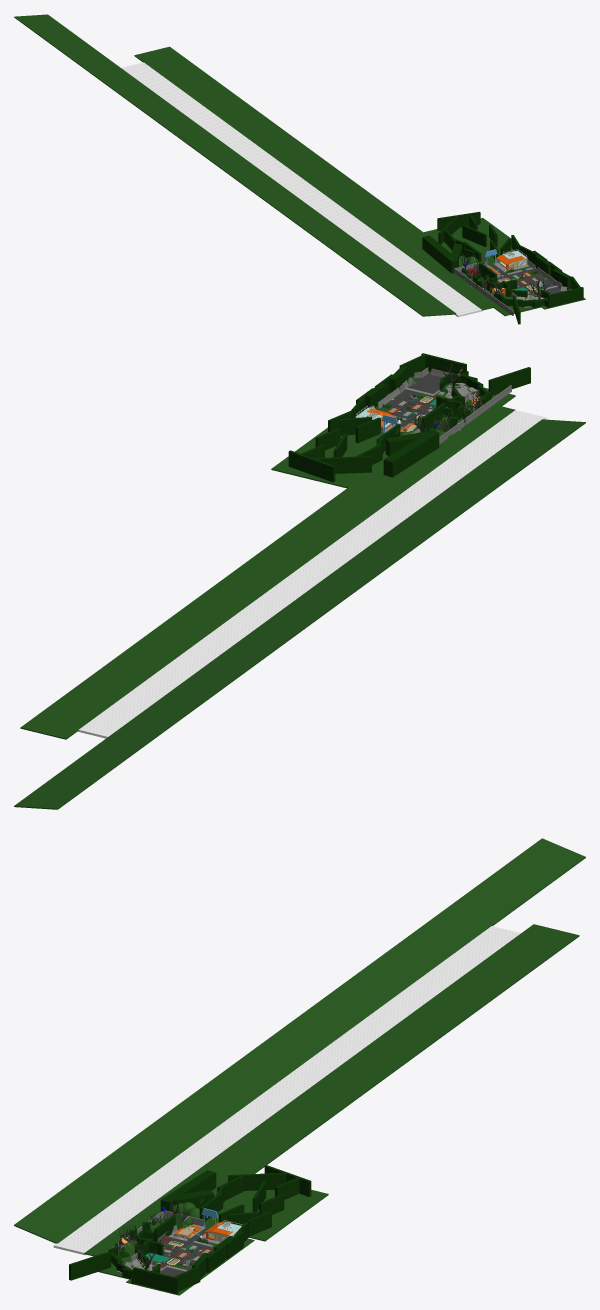
File: 2016map2.fbx
The picture shows the model from 3 angles, top to bottom: view 1: azimuth 30°, elevation 25°; view 2: azimuth 150°, elevation 25°; view 3: azimuth 330°, elevation 25°; orthographic projection. The views are drawn at different scales.
Parts seen in each view (by area): view 1: Ground__1_, Ground_2, Cube, Ground_1, Cube__291_; view 2: Ground__1_, Ground_2, Cube, Ground_1, Cube__301_, Cube__275_, Cube__297_, Cube__298_; view 3: Ground__1_, Ground_2, Cube, Ground_1, Cube__291_, Cube__298_, Cube__275_.
Boxes of the visible parts, x1,y1,x2,y2 form: Ground__1_: (14, 14, 456, 316); Ground_2: (134, 46, 512, 310); Cube: (121, 62, 482, 317); Ground_1: (423, 218, 520, 264); Cube__291_: (548, 287, 583, 307); Ground__1_: (14, 419, 585, 809); Ground_2: (20, 400, 515, 739); Cube: (78, 410, 546, 738); Ground_1: (271, 427, 388, 488); Cube__301_: (288, 450, 335, 482); Cube__275_: (313, 456, 371, 473); Cube__297_: (383, 445, 415, 477); Cube__298_: (488, 367, 530, 395); Ground__1_: (14, 838, 585, 1243); Ground_2: (84, 924, 579, 1261); Cube: (53, 926, 520, 1255); Ground_1: (204, 1190, 328, 1241); Cube__291_: (133, 1267, 178, 1293); Cube__298_: (69, 1251, 111, 1280); Cube__275_: (228, 1173, 286, 1190).
Bounding box in the file's own units: 19220 × 3482 × 95504.
32 materials, 3 textured.
